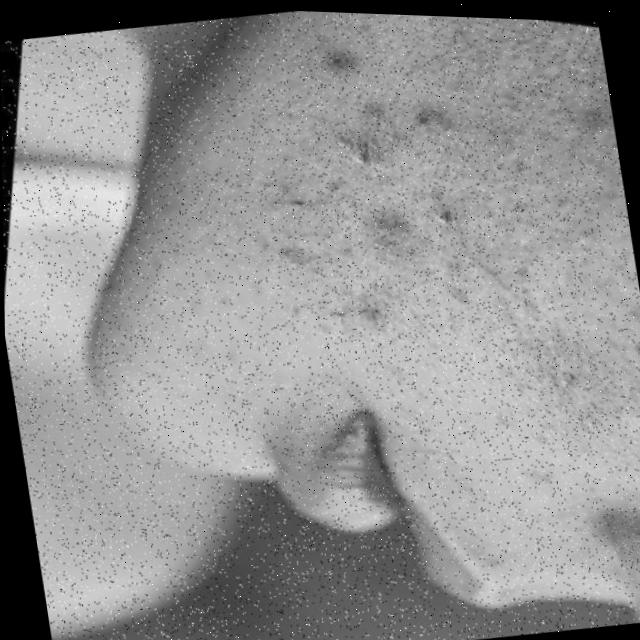Acne: (146, 26, 484, 374)
